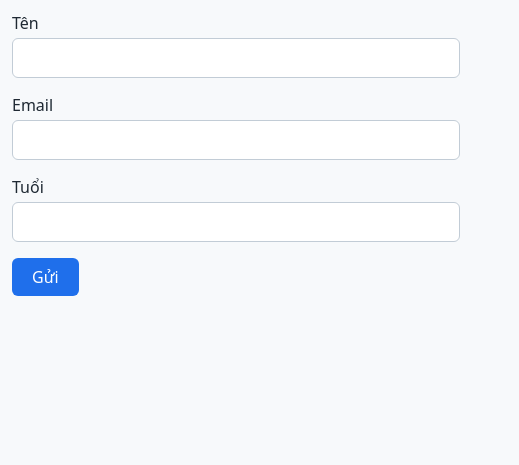
it: SimpleForm – ShowData on submit › shows the submitted data (trimmed, age as number) after a valid submit
Type "  Ada Lovelace " into the field labelled "Tên" at point(236, 58), box [12,38,460,78]
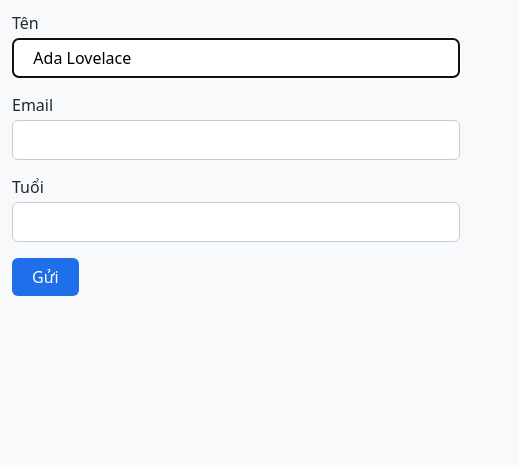
Type "ada@example.com" into the field labelled "Email" at point(236, 140), box [12,120,460,160]
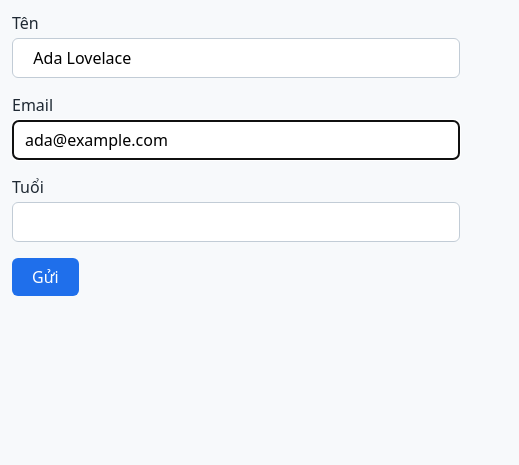
Type "36" into the number field labelled "Tuổi" at point(236, 222), box [12,202,460,242]
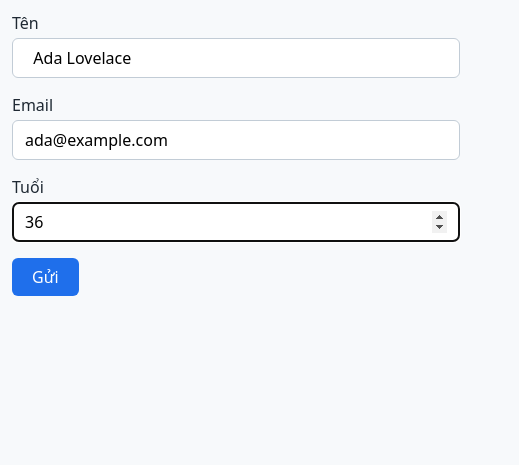
Click the button "Gửi" at point(45, 277), box [12,258,79,296]
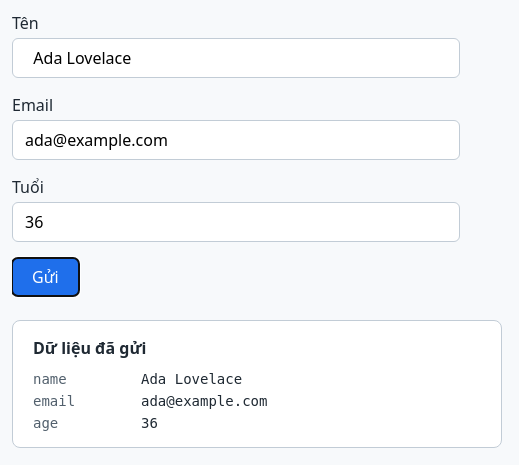
expect the element with class "json-inspector" is shown: met, box [33,371,267,431]
expect the heading "Dữ liệu đã gửi" is shown: met, box [33,337,146,359]
